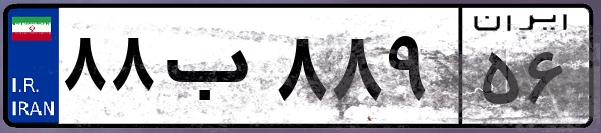5: (475, 38, 525, 113)
6: (525, 38, 570, 115)
8: (270, 28, 330, 110), (330, 28, 385, 110), (57, 26, 110, 100), (110, 28, 158, 98)
9: (385, 28, 445, 110)
ب: (158, 20, 270, 120)
